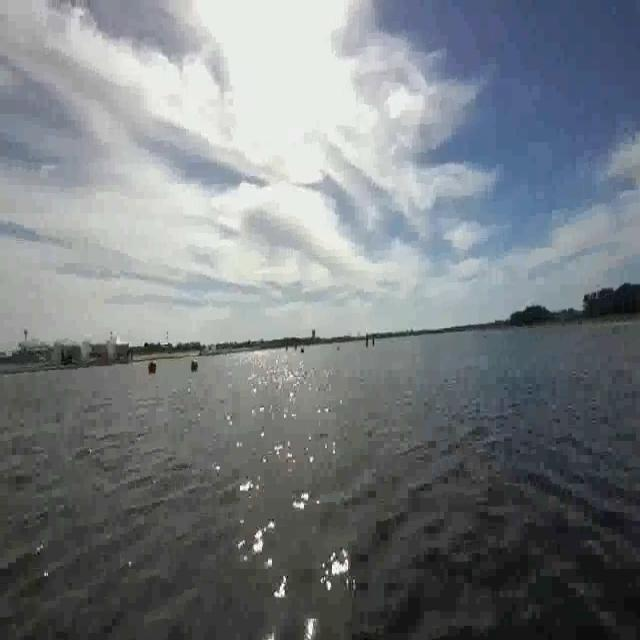green-buoy: (187, 356, 200, 372)
red-buoy: (147, 354, 157, 375)
